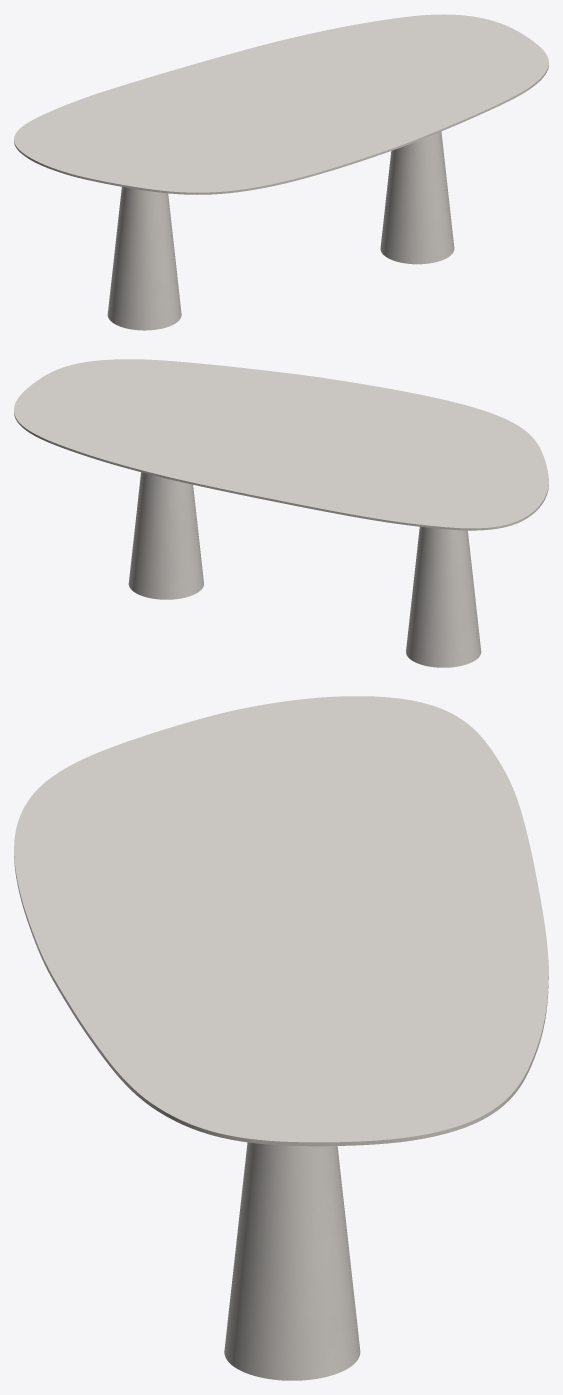
The model's file is purewhite_leaf2_facet_pebble.glb.
3 renders of one model, top to bottom at view 1: azimuth 30°, elevation 25°; view 2: azimuth 150°, elevation 25°; view 3: azimuth 270°, elevation 25°, orthographic. The views are drawn at different scales.
Parts seen in each view (by area): view 1: facet_leaf2, pebble; view 2: facet_leaf2, pebble; view 3: facet_leaf2, pebble.
Part boxes in pixels (x1,y1,x2,y2): facet_leaf2: (14,14,548,194); pebble: (107,131,454,330); facet_leaf2: (14,359,548,530); pebble: (128,472,481,667); facet_leaf2: (14,696,548,1146); pebble: (224,1142,360,1380).
Size of the model in its own units: 7.5 by 2.5 by 3.8.
1 material, 1 textured.
